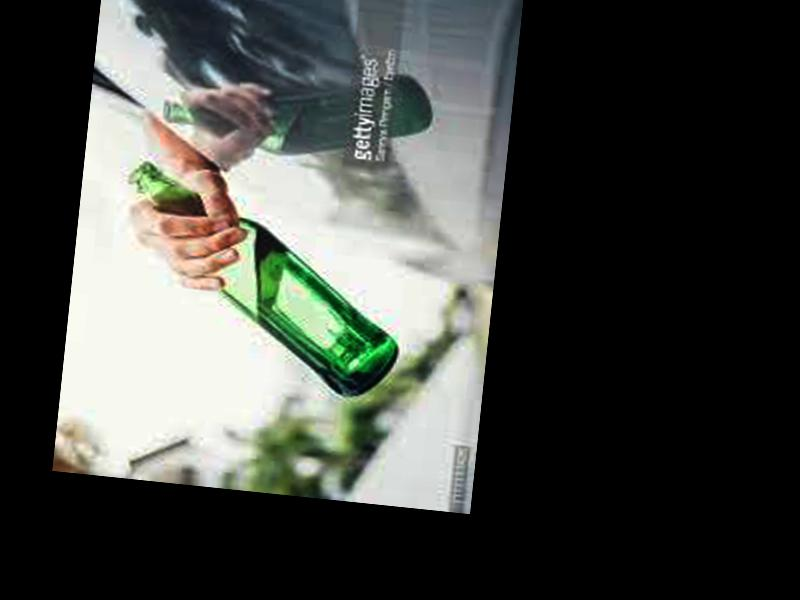Beer: (113, 157, 414, 401)
